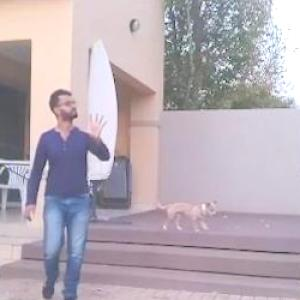follow_hand: (79, 107, 115, 143)
